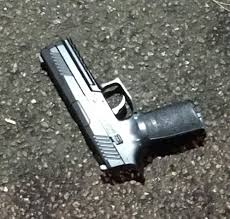gun: (40, 36, 210, 182)
